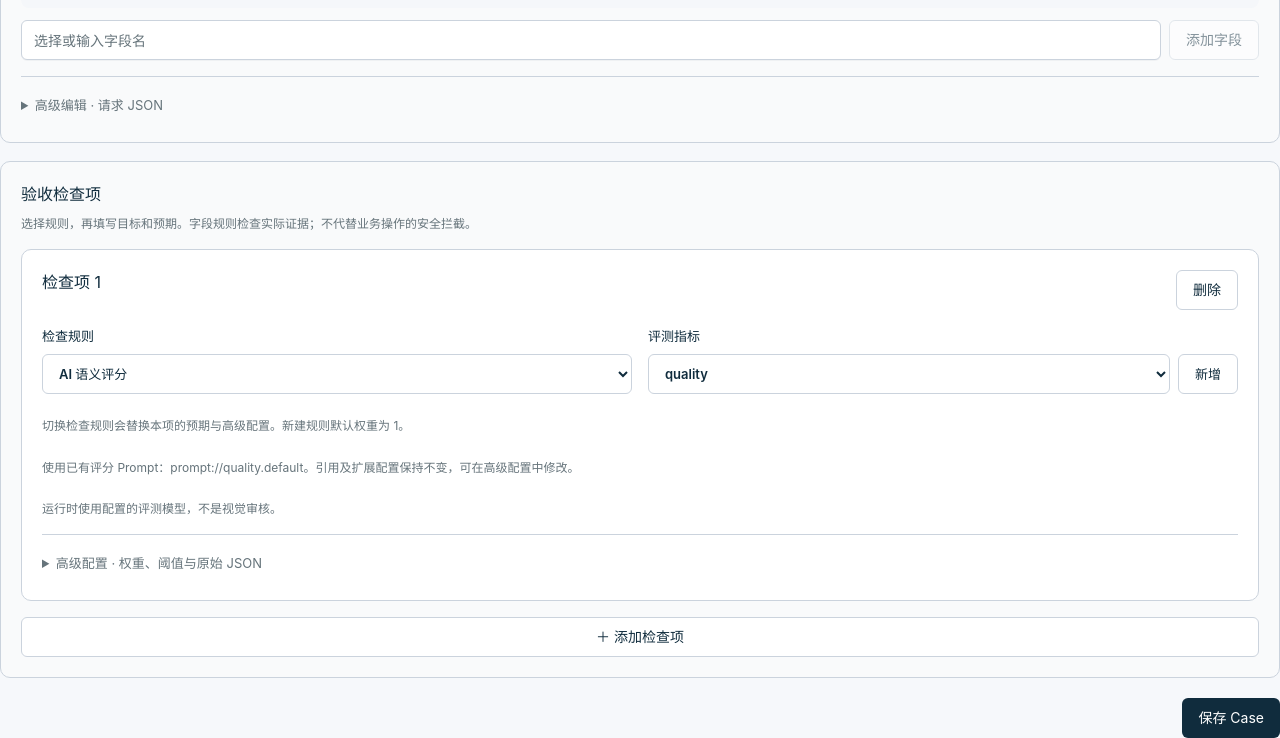
Test: Case 双编辑器组件 › 把服务端 Case 字段路径关联到结构化字段并保留 Draft
(page scrolled)
What coordinates should you click on to do the following:
click the button "保存 Case"
I would click on:
 (1231, 718)
Its box is [1182,698,1279,737].
(page scrolled)
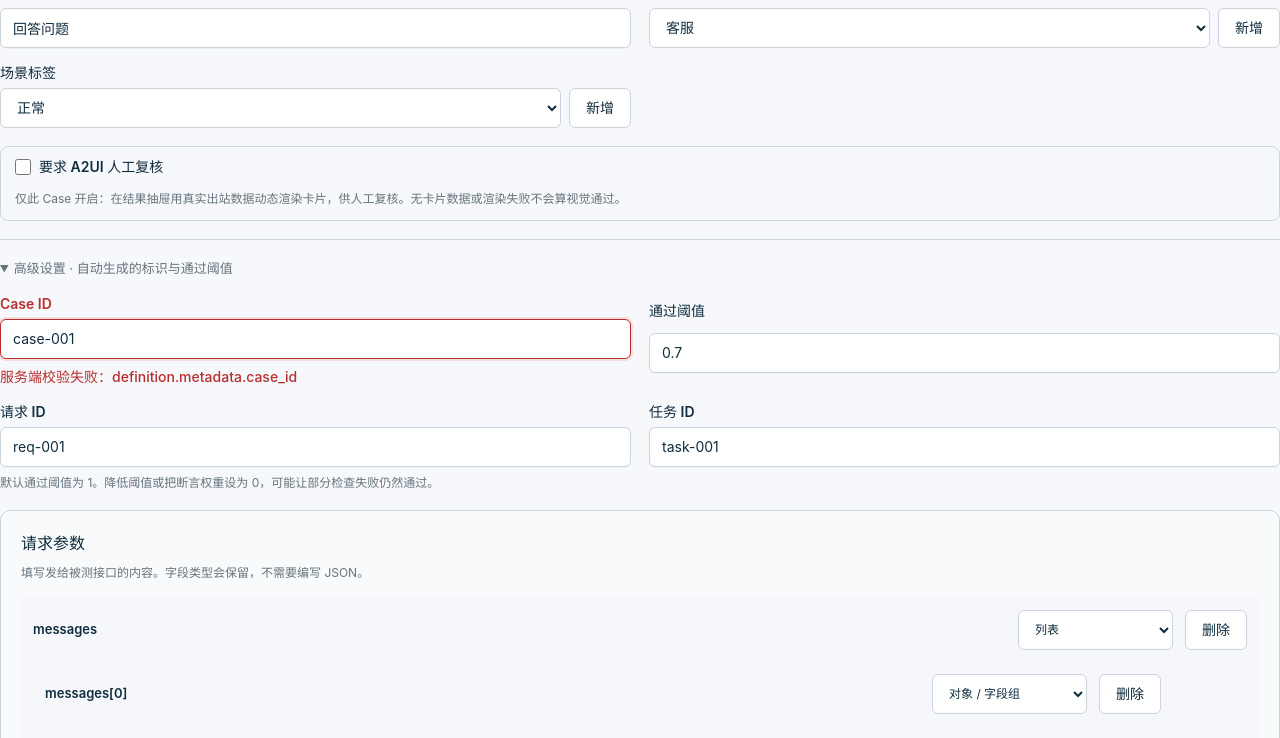
Check: the text "服务端校验失败：definition.metadata.case_id" is shown, box [0,368,297,385]
Check: the field labelled "Case ID" holds "case-001", box [0,319,631,359]
